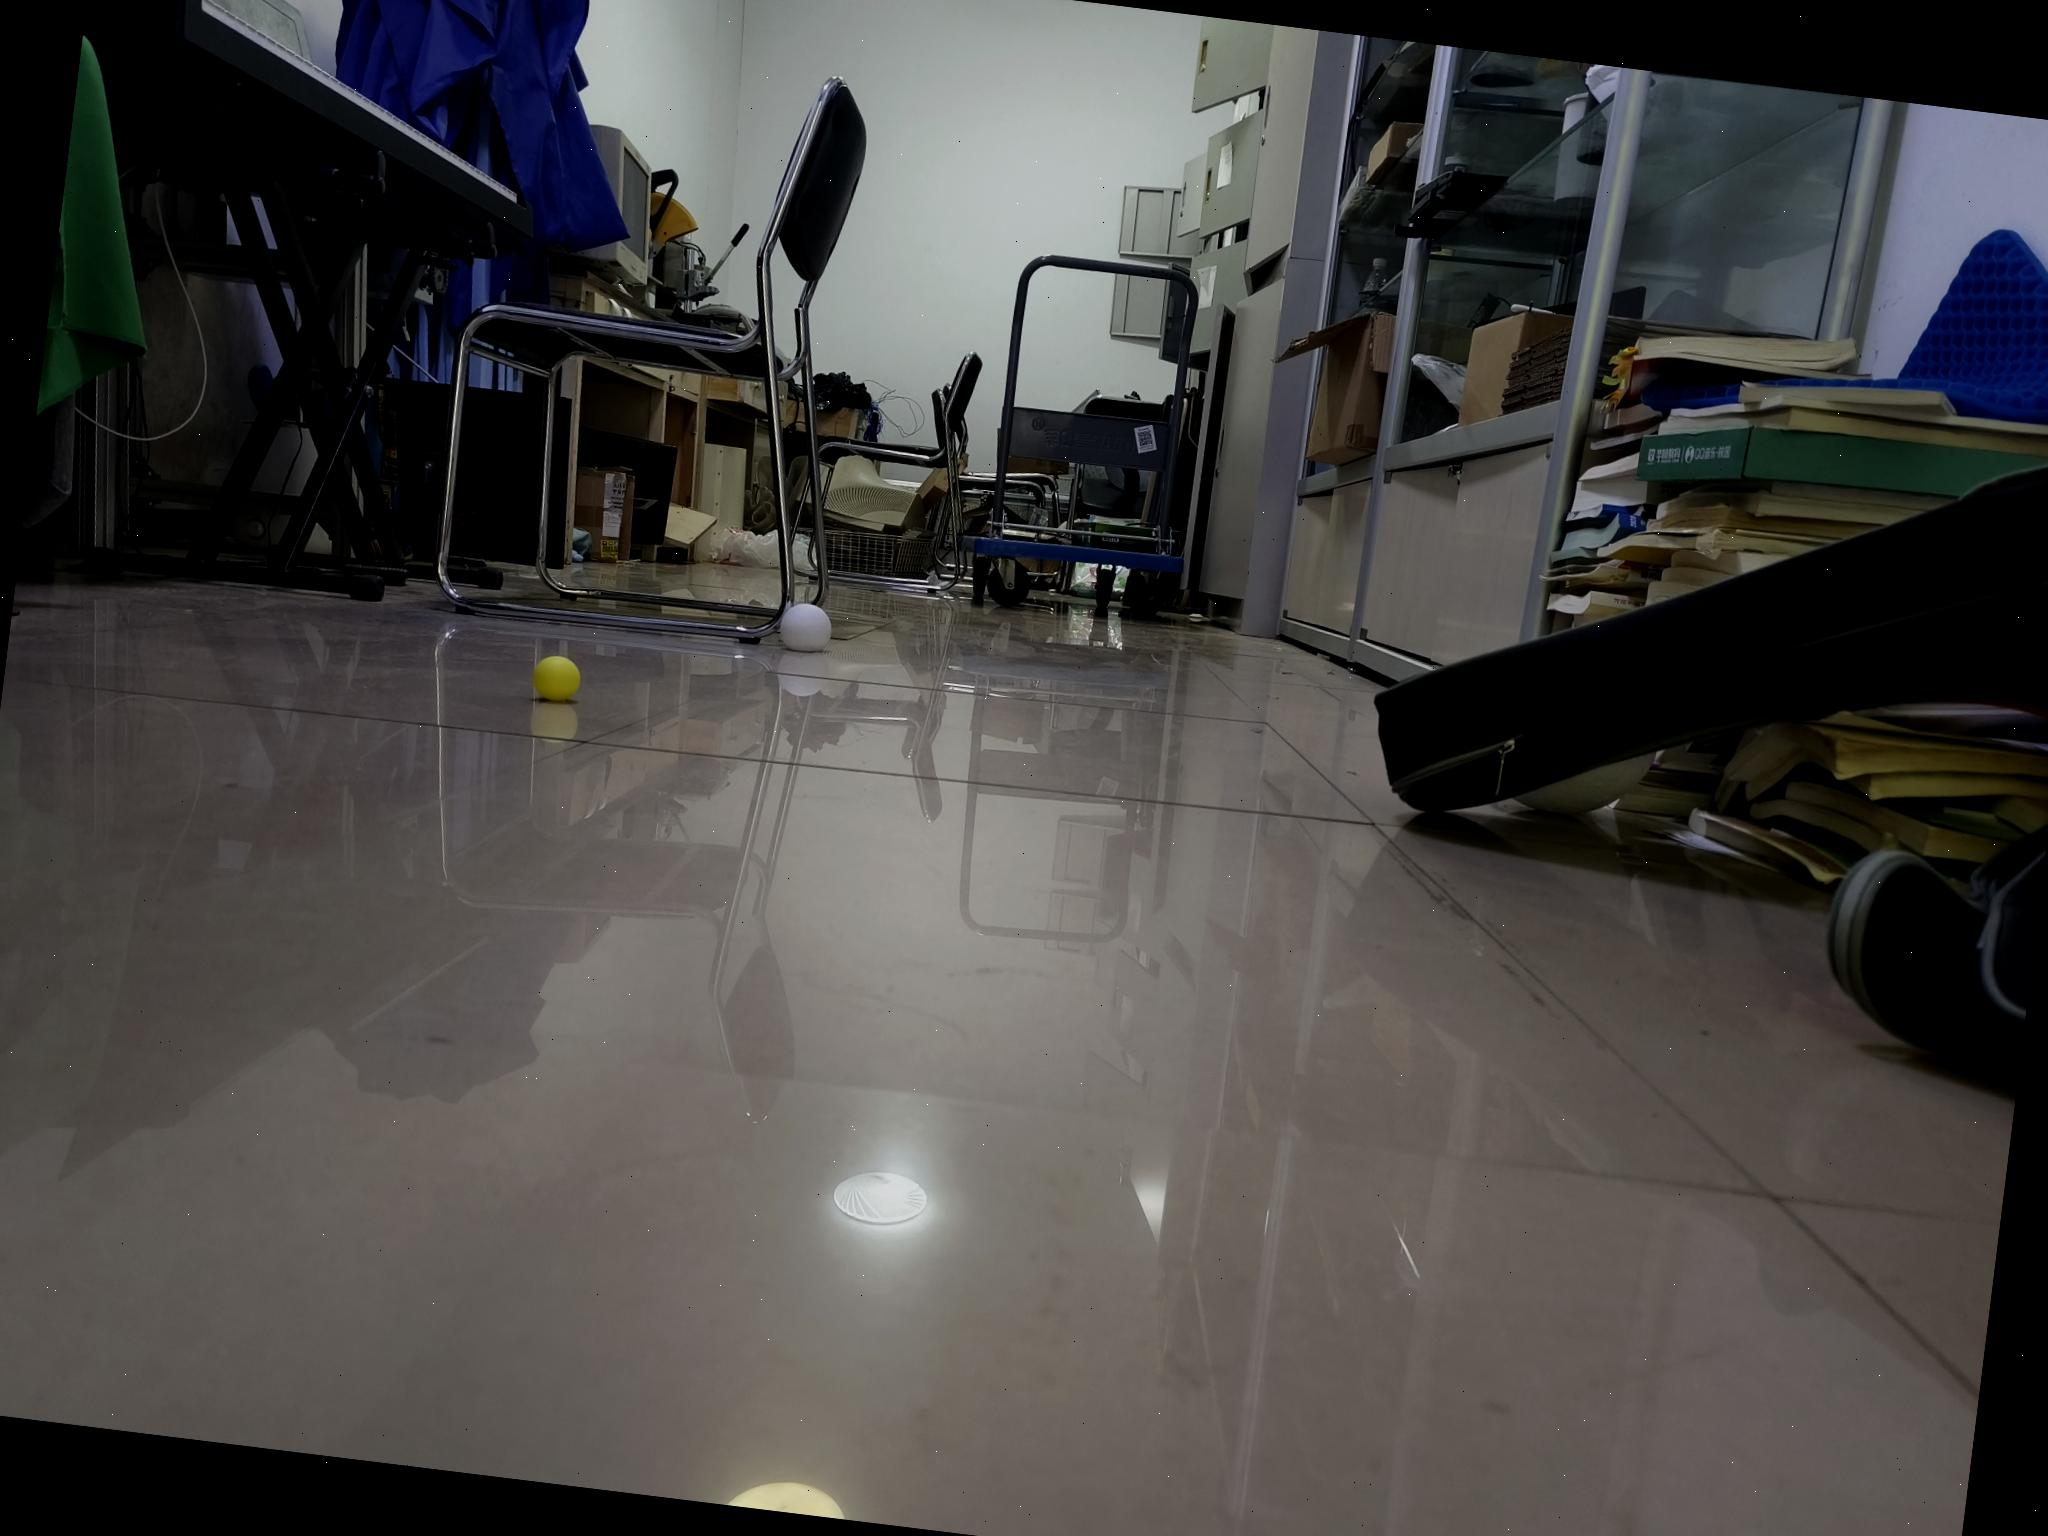ball: (527, 650, 585, 707)
